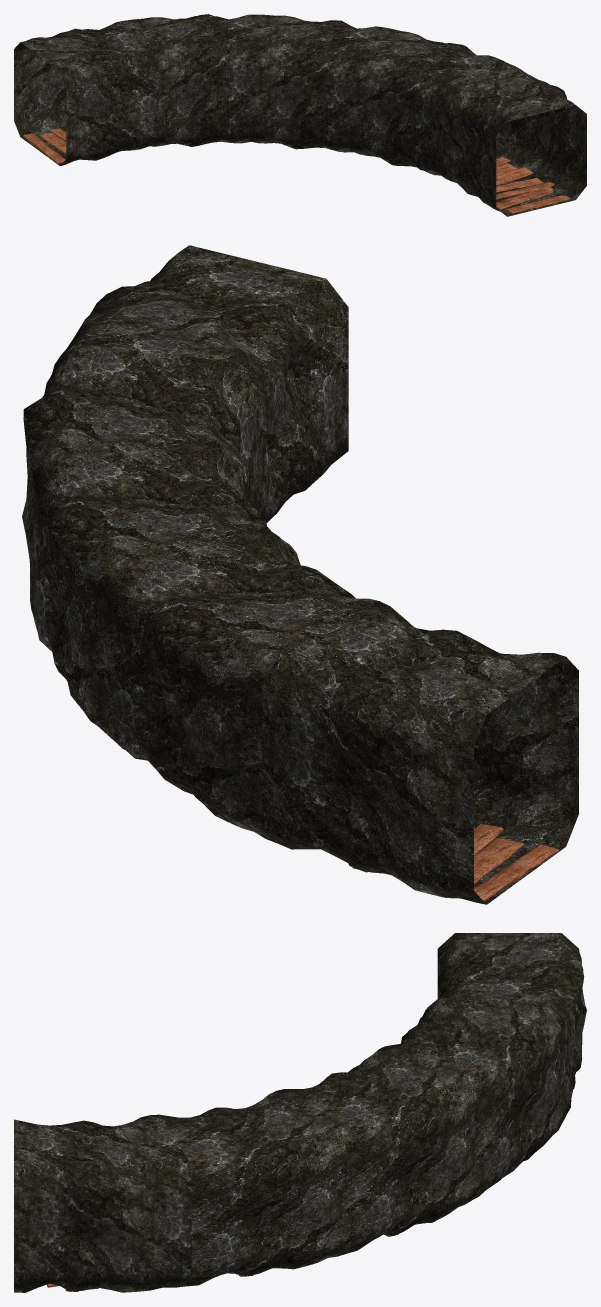
File: Cave_051.fbx
The picture shows the model from 3 angles, top to bottom: view 1: azimuth 30°, elevation 25°; view 2: azimuth 150°, elevation 25°; view 3: azimuth 270°, elevation 25°; orthographic projection. The views are drawn at different scales.
Parts seen in each view (by area): view 1: Cave.051; view 2: Cave.051; view 3: Cave.051.
Boxes of the visible parts, x1=… form: Cave.051: x1=14, y1=14, x2=586, y2=216; Cave.051: x1=22, y1=245, x2=578, y2=904; Cave.051: x1=14, y1=933, x2=586, y2=1292.
Size of the model in its own units: 1212 by 313 by 1217.
